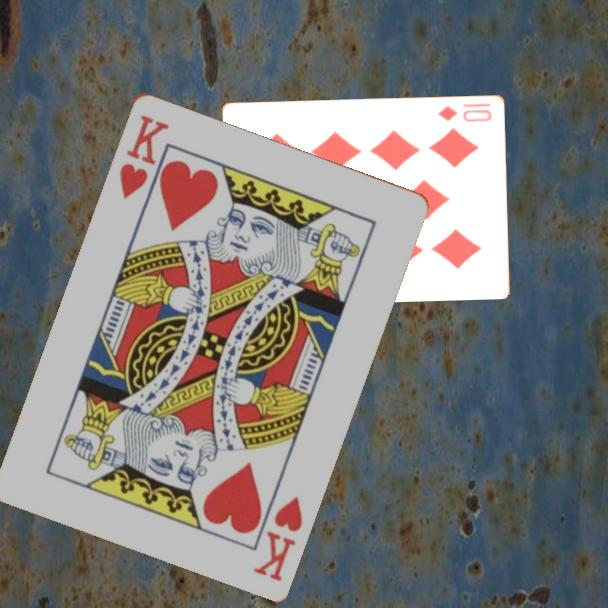d10: (435, 102, 495, 124)
h13: (115, 110, 172, 202), (249, 492, 306, 584)
